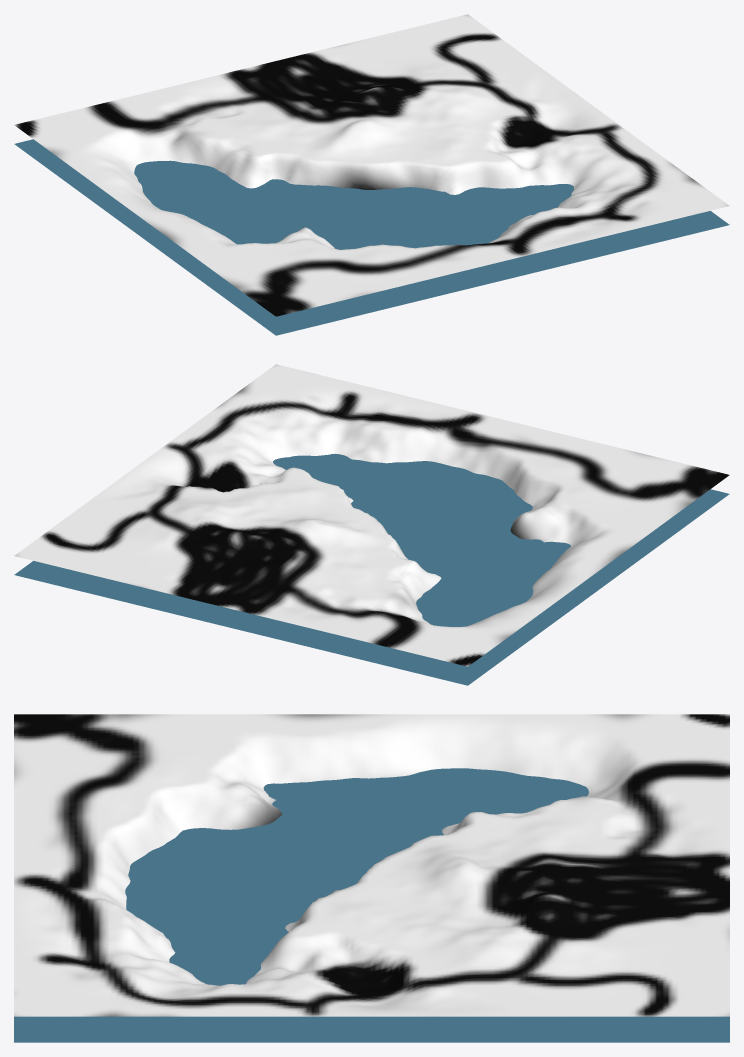
The model's file is LANDSCAPE.fbx.
3 renders of one model, top to bottom at view 1: azimuth 30°, elevation 25°; view 2: azimuth 150°, elevation 25°; view 3: azimuth 270°, elevation 25°, orthographic. The views are drawn at different scales.
Parts seen in each view (by area): view 1: Landscape, Landscape_plane; view 2: Landscape, Landscape_plane; view 3: Landscape, Landscape_plane.
Part boxes in pixels (x1=…): Landscape: x1=14, y1=14, x2=729, y2=316; Landscape_plane: x1=14, y1=139, x2=729, y2=335; Landscape: x1=14, y1=364, x2=729, y2=666; Landscape_plane: x1=14, y1=453, x2=729, y2=685; Landscape: x1=14, y1=714, x2=729, y2=1016; Landscape_plane: x1=14, y1=768, x2=729, y2=1042.
Bounding box in the file's own units: 200 × 30.09 × 200.
